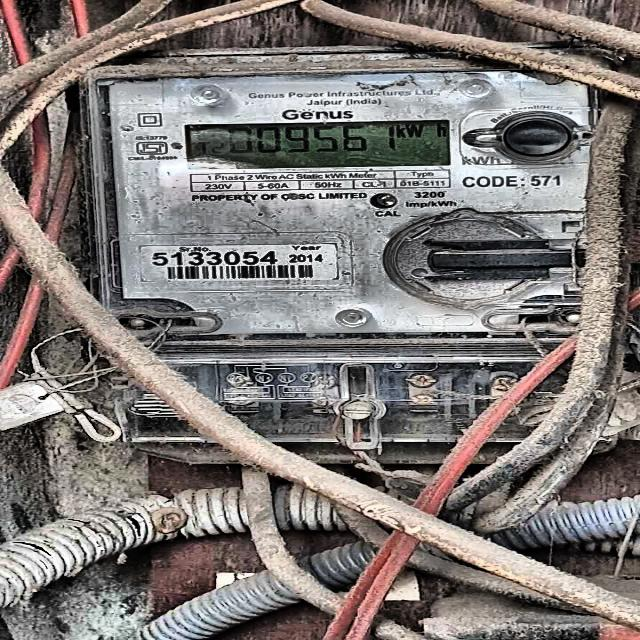Digital: (78, 49, 601, 474)
Reading: (220, 124, 383, 154)
Serial No.: (148, 252, 280, 266)
